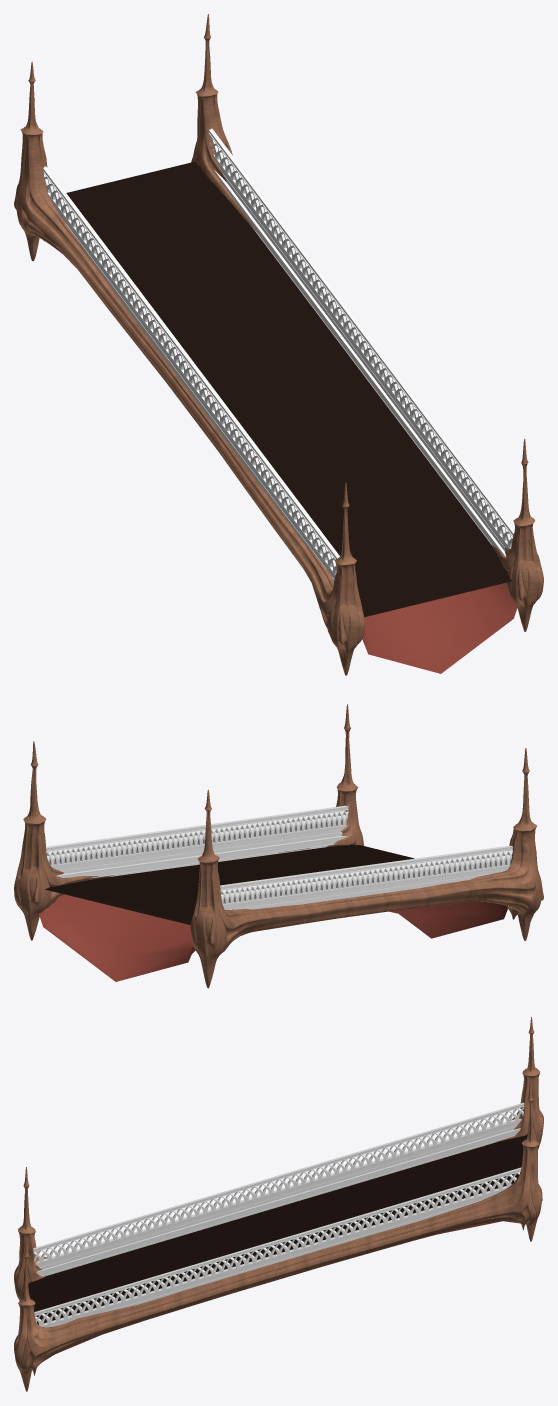
The model's file is Geonosis_BridgeRamp01.fbx.
3 renders of one model, top to bottom at view 1: azimuth 30°, elevation 25°; view 2: azimuth 150°, elevation 25°; view 3: azimuth 270°, elevation 25°, orthographic. The views are drawn at different scales.
Parts seen in each view (by area): view 1: Geonosis_Bridge_Ramp; view 2: Geonosis_Bridge_Ramp; view 3: Geonosis_Bridge_Ramp.
Boxes of the visible parts, x1=… form: Geonosis_Bridge_Ramp: x1=14, y1=14, x2=543, y2=675; Geonosis_Bridge_Ramp: x1=14, y1=704, x2=543, y2=988; Geonosis_Bridge_Ramp: x1=14, y1=1017, x2=543, y2=1391.
Size of the model in its own units: 621 by 1140 by 1677.
